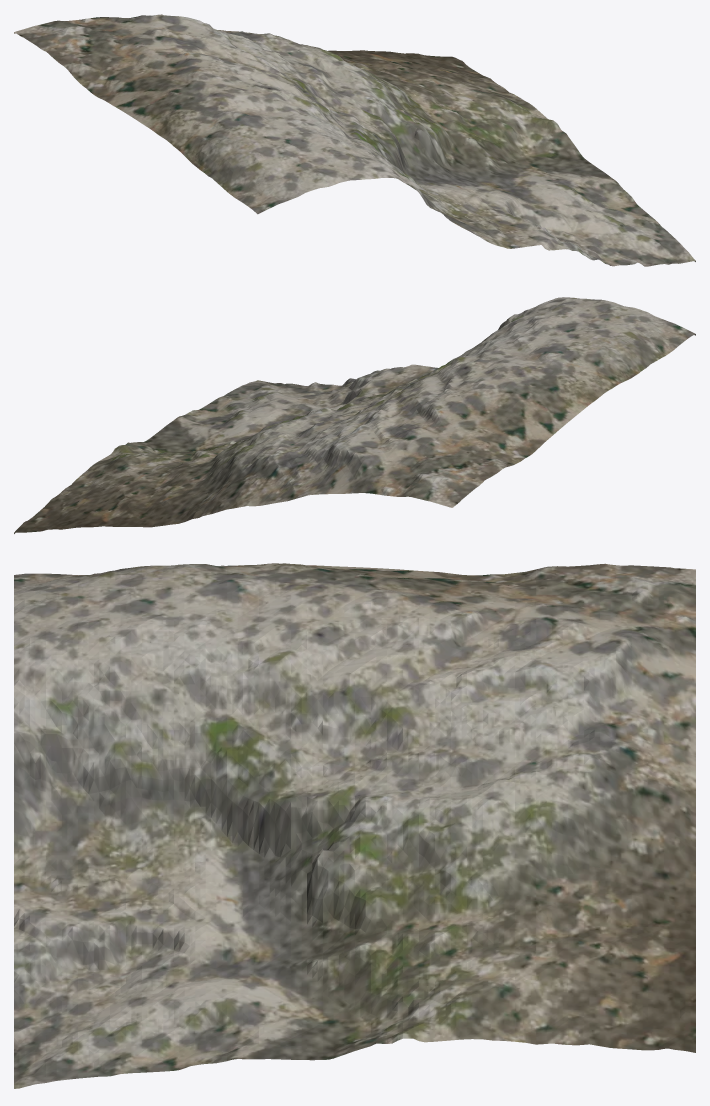
The picture shows the model from 3 angles, top to bottom: view 1: azimuth 30°, elevation 25°; view 2: azimuth 150°, elevation 25°; view 3: azimuth 270°, elevation 25°; orthographic projection. The views are drawn at different scales.
Size of the model in its own units: 250 by 97.93 by 241.
Materials: 1 (1 with a texture image).
